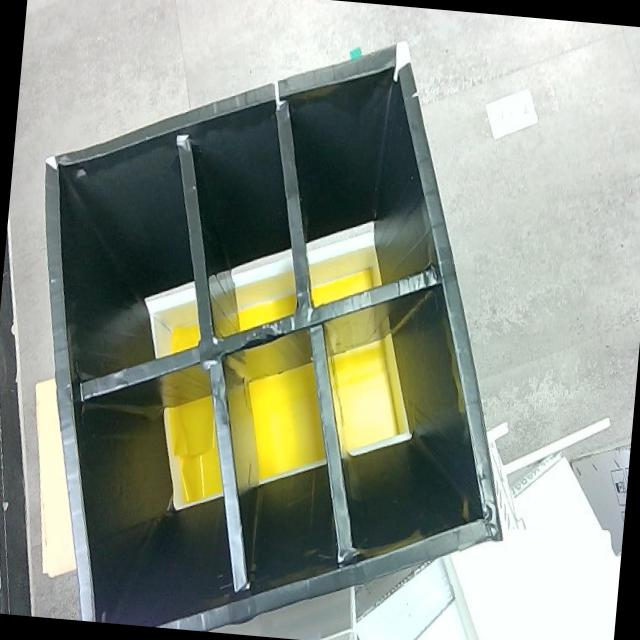box: (1, 0, 551, 640)
